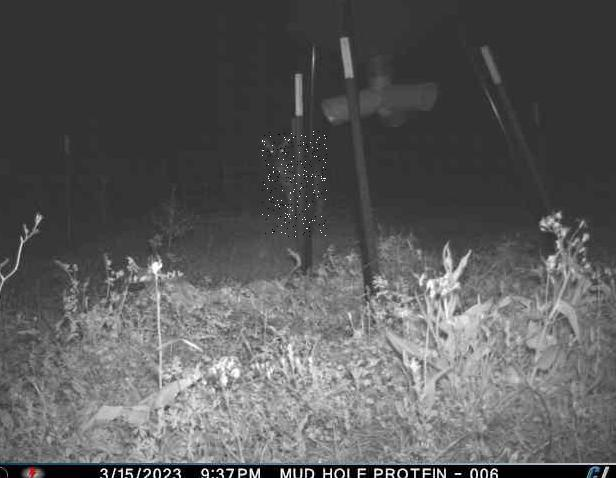Deer: (262, 131, 327, 237)
